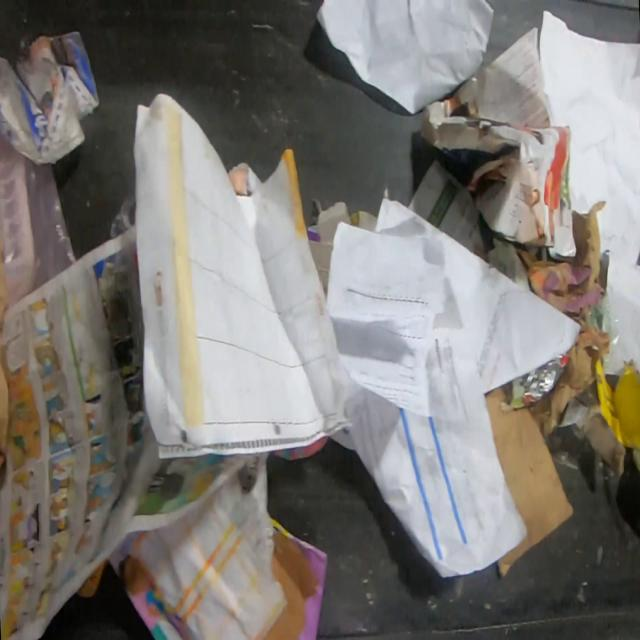cardboard: (486, 386, 576, 580), (582, 355, 640, 479), (308, 196, 378, 296), (546, 128, 578, 264), (518, 354, 570, 406)
soft_plastic: (0, 132, 79, 317), (586, 294, 622, 371)
